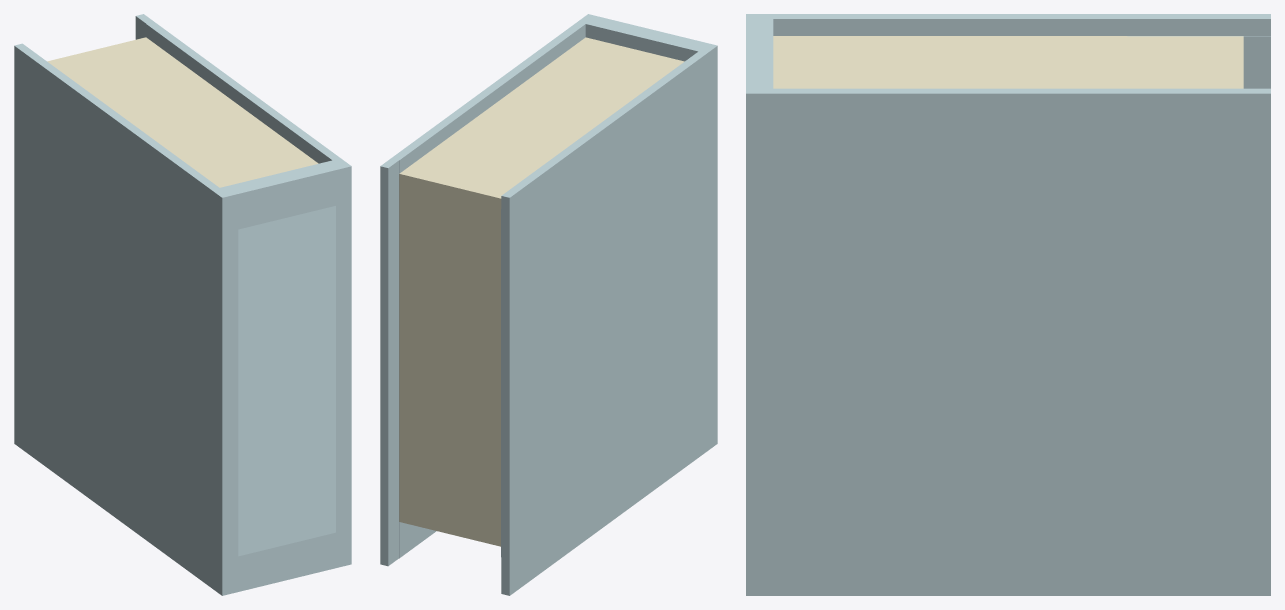
Rendered from book.fbx.
3 views of the same model, side by side, from view 1: azimuth 30°, elevation 25°; view 2: azimuth 150°, elevation 25°; view 3: azimuth 270°, elevation 25° (orthographic). The views are drawn at different scales.
Visible parts, largest first — view 1: Boole_1; view 2: Boole_1; view 3: Boole_1.
Part boxes in pixels (x1,y1,x2,y2): Boole_1: (14, 14, 351, 595); Boole_1: (380, 14, 717, 595); Boole_1: (746, 14, 1270, 595).
Bounding box in the file's own units: 3.16 × 9.27 × 8.78.
